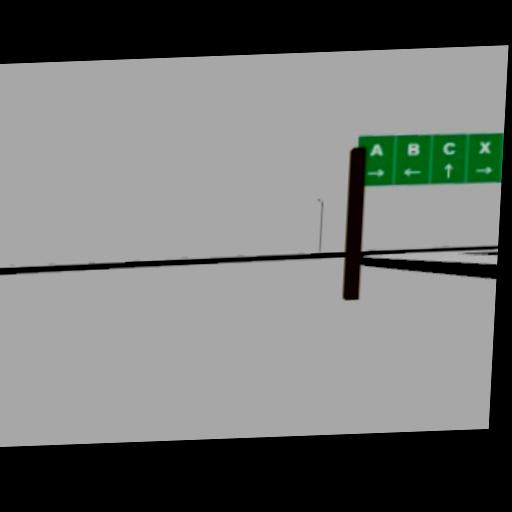A: (369, 142, 384, 156)
B: (406, 143, 421, 156)
C: (443, 141, 456, 155)
Left: (402, 166, 421, 175)
Right: (474, 165, 493, 174), (366, 167, 385, 176)
Straight: (443, 162, 454, 178)
X: (478, 140, 491, 153)
